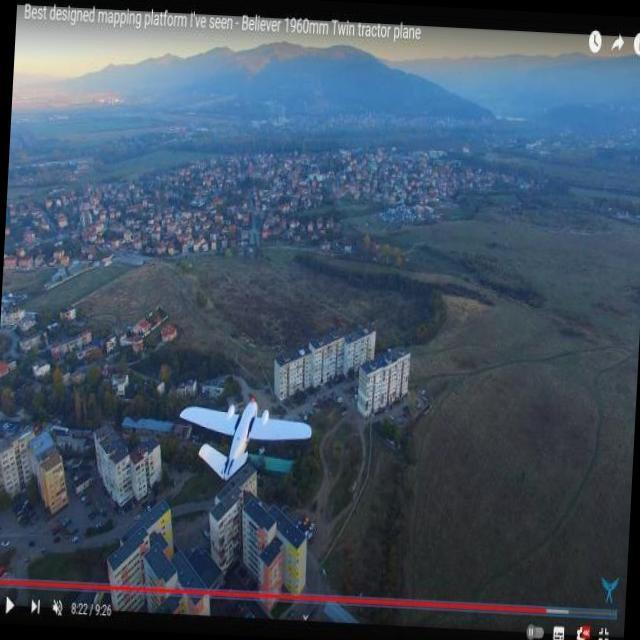iha: (169, 420, 339, 458)
